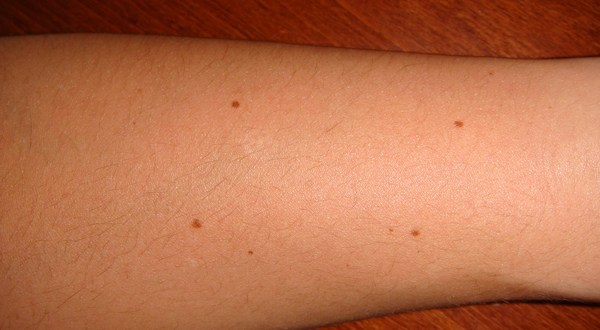melanoma: (191, 70, 449, 264)
